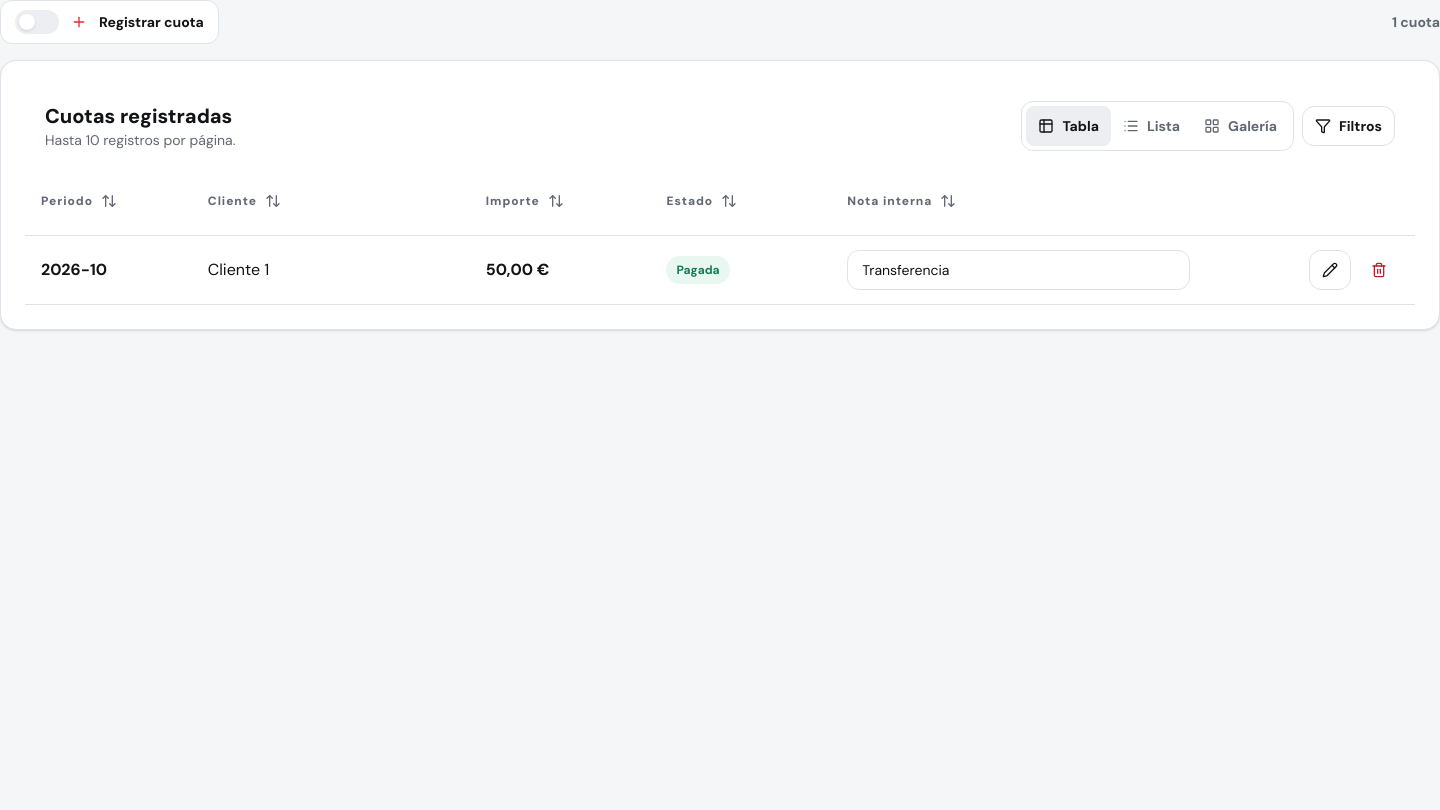
Test: FeesManager › abre la edición y exige confirmación antes de eliminar
What coordinates should you click on to do the following:
click the button named "Editar cuota de Cliente 1, 2026-10"
I would click on:
 (1330, 270)
Its box is [1309, 250, 1351, 290].
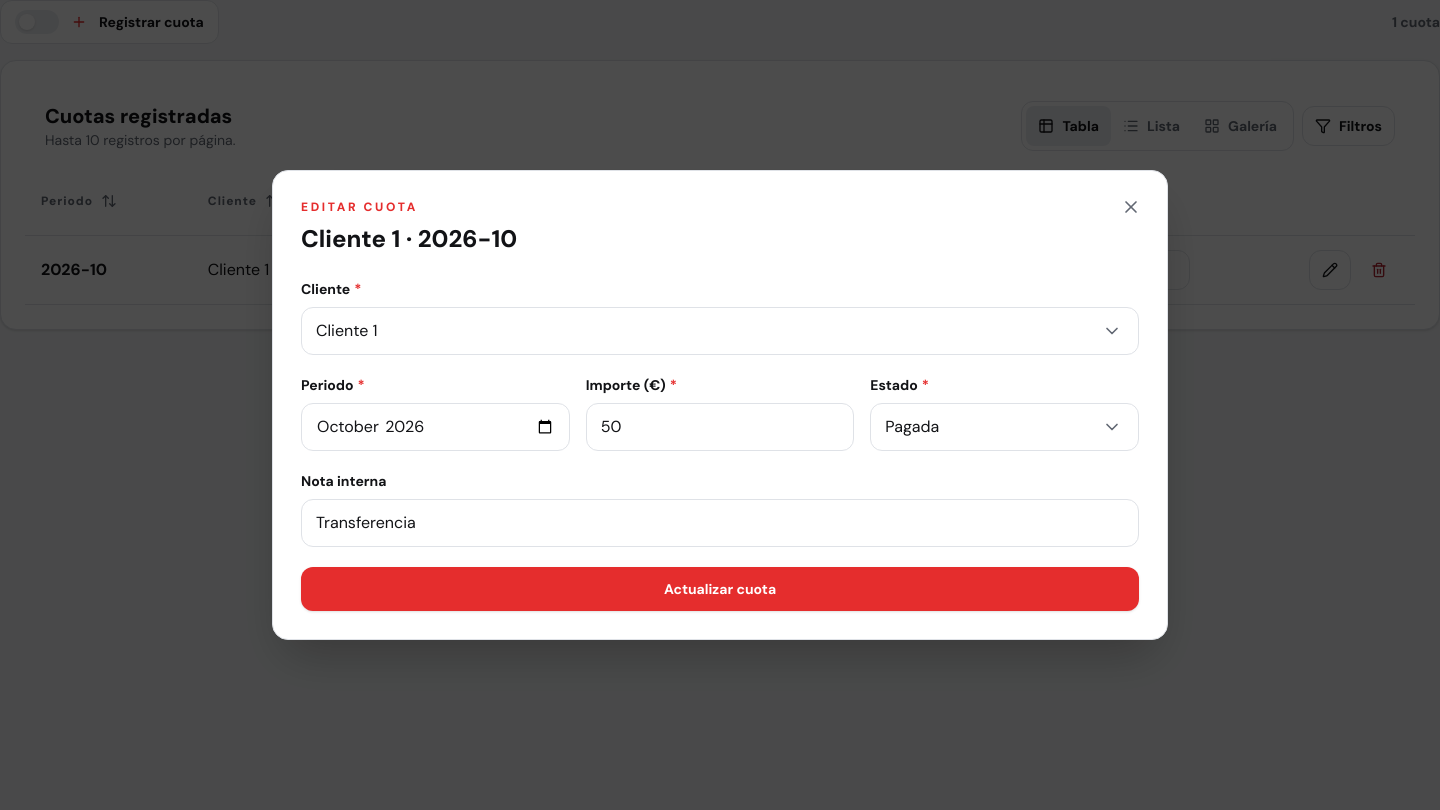
Check: the dialog "Cliente 1 · 2026-10" is shown, box [272, 170, 1168, 640]
Check: the number field showing "50" is shown, box [586, 403, 854, 451]
What coordinates should you click on to do the following:
click the button named "Cerrar edición de cuota"
I would click on:
 (1131, 207)
Its box is [1111, 187, 1151, 227].
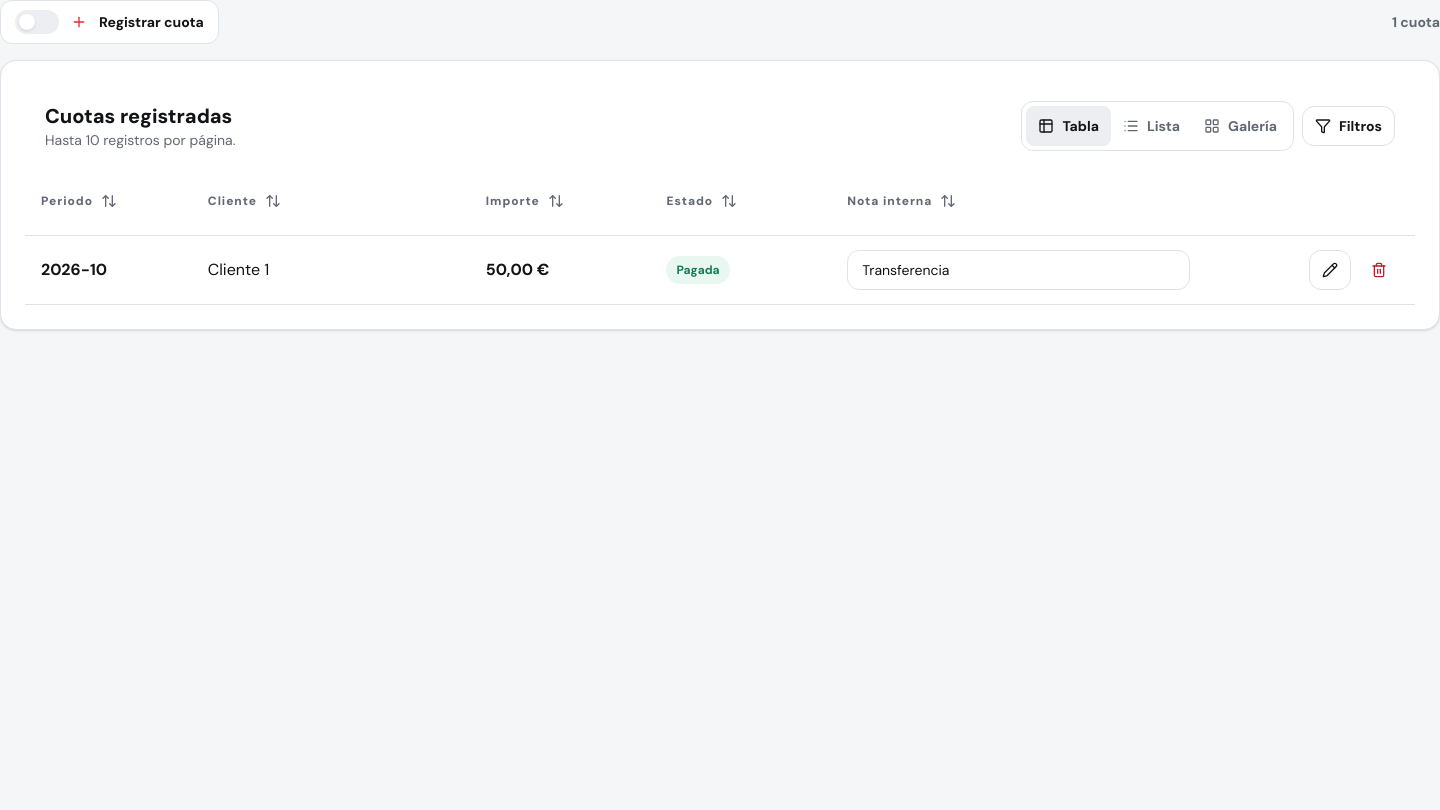
What coordinates should you click on to do the following:
click the button named "Eliminar cuota de Cliente 1, 2026-10"
I would click on:
 (1379, 270)
Its box is [1359, 250, 1399, 290].
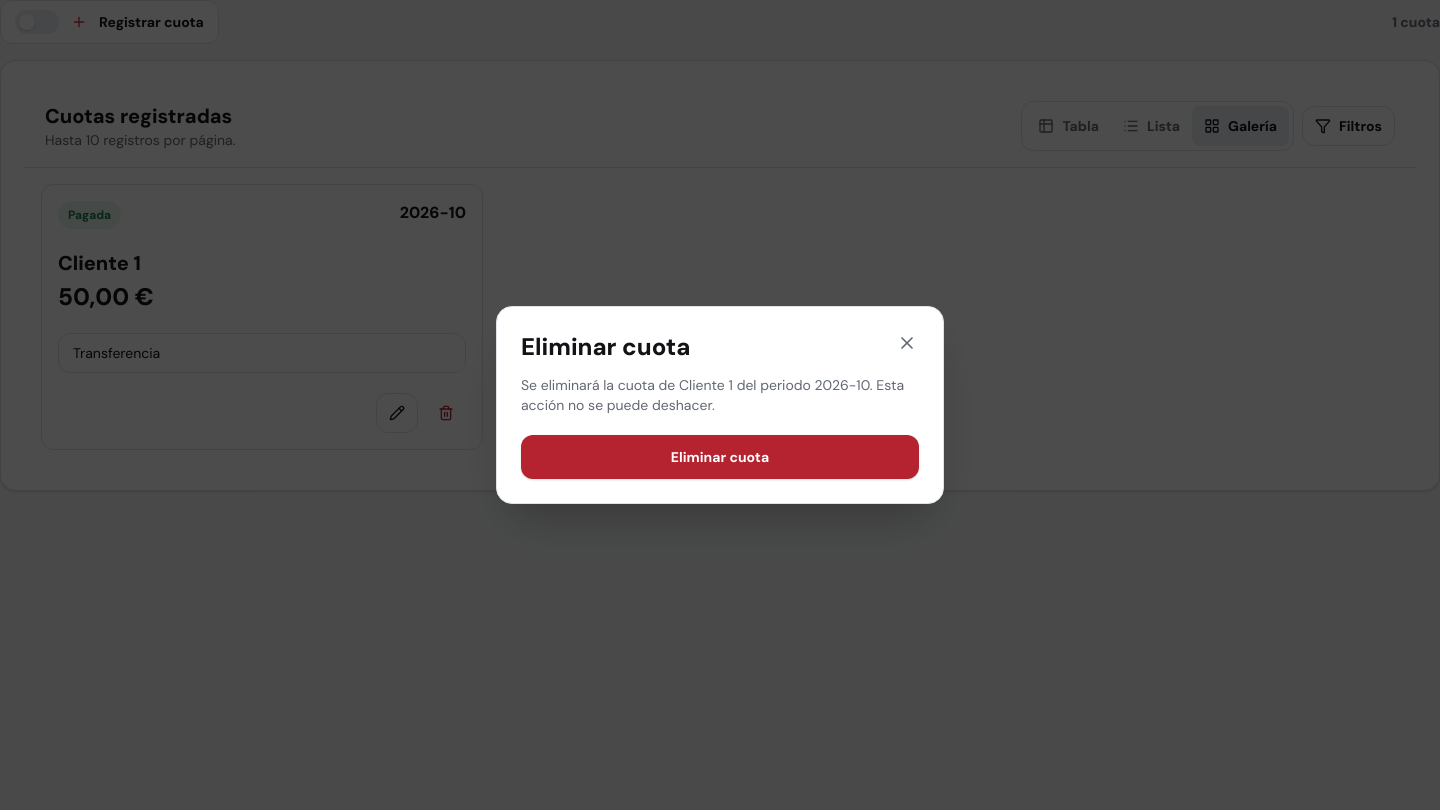
Check: the dialog "Eliminar cuota" is shown, box [496, 306, 944, 504]
Check: the button "Eliminar cuota" is shown, box [521, 435, 919, 479]
